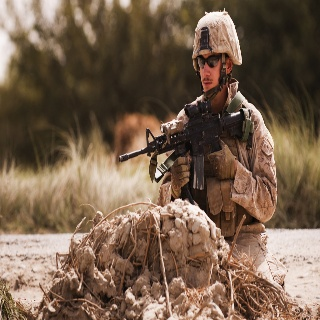rifle: (117, 95, 251, 192)
